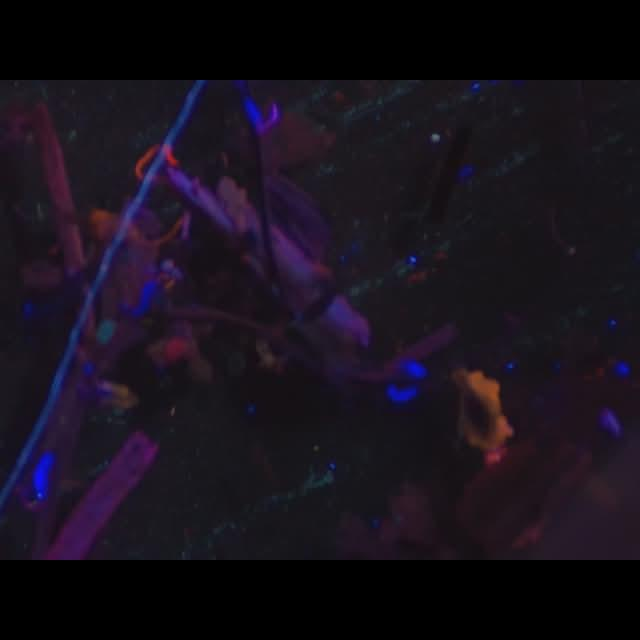microbeads: (431, 132, 441, 142)
